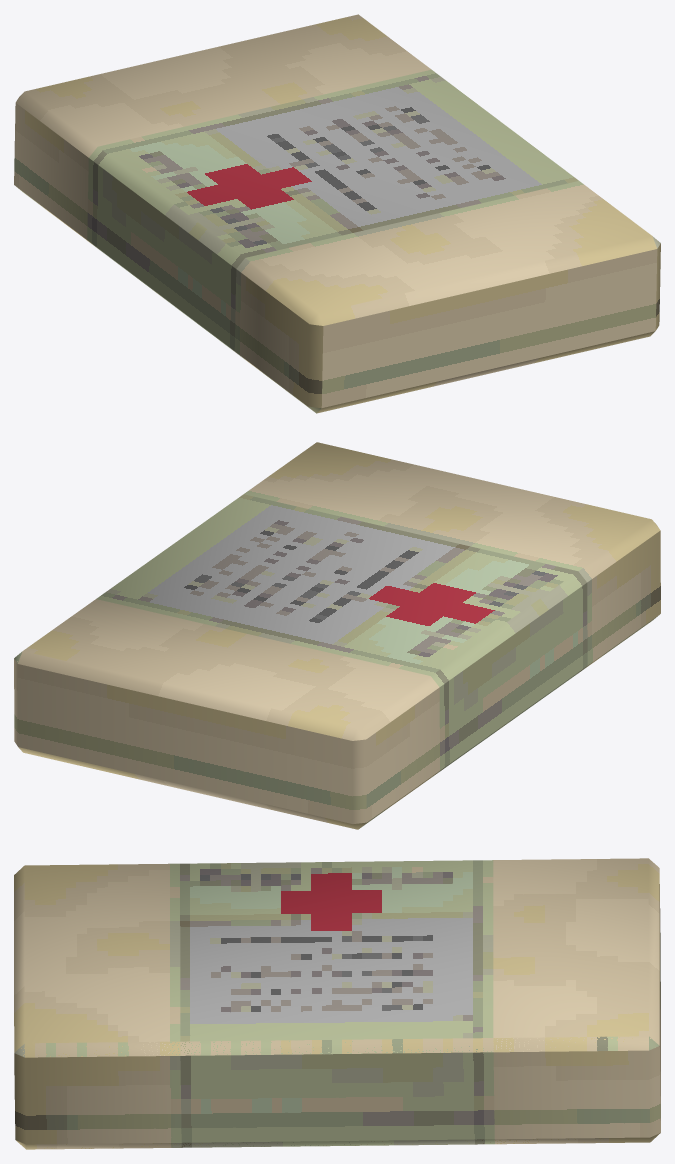
Rendered from aidkit.glb.
3 views of the same model, one above another, from view 1: azimuth 30°, elevation 25°; view 2: azimuth 150°, elevation 25°; view 3: azimuth 270°, elevation 25° (orthographic). The views are drawn at different scales.
Visible parts, largest first — view 1: box 7; view 2: box 7; view 3: box 7.
Boxes of the visible parts, x1,y1,x2,y2 form: box 7: (14,14,660,413); box 7: (14,442,660,829); box 7: (14,858,660,1149).
Size of the model in its own units: 1.21 by 0.3655 by 1.81.
1 material, 1 textured.
